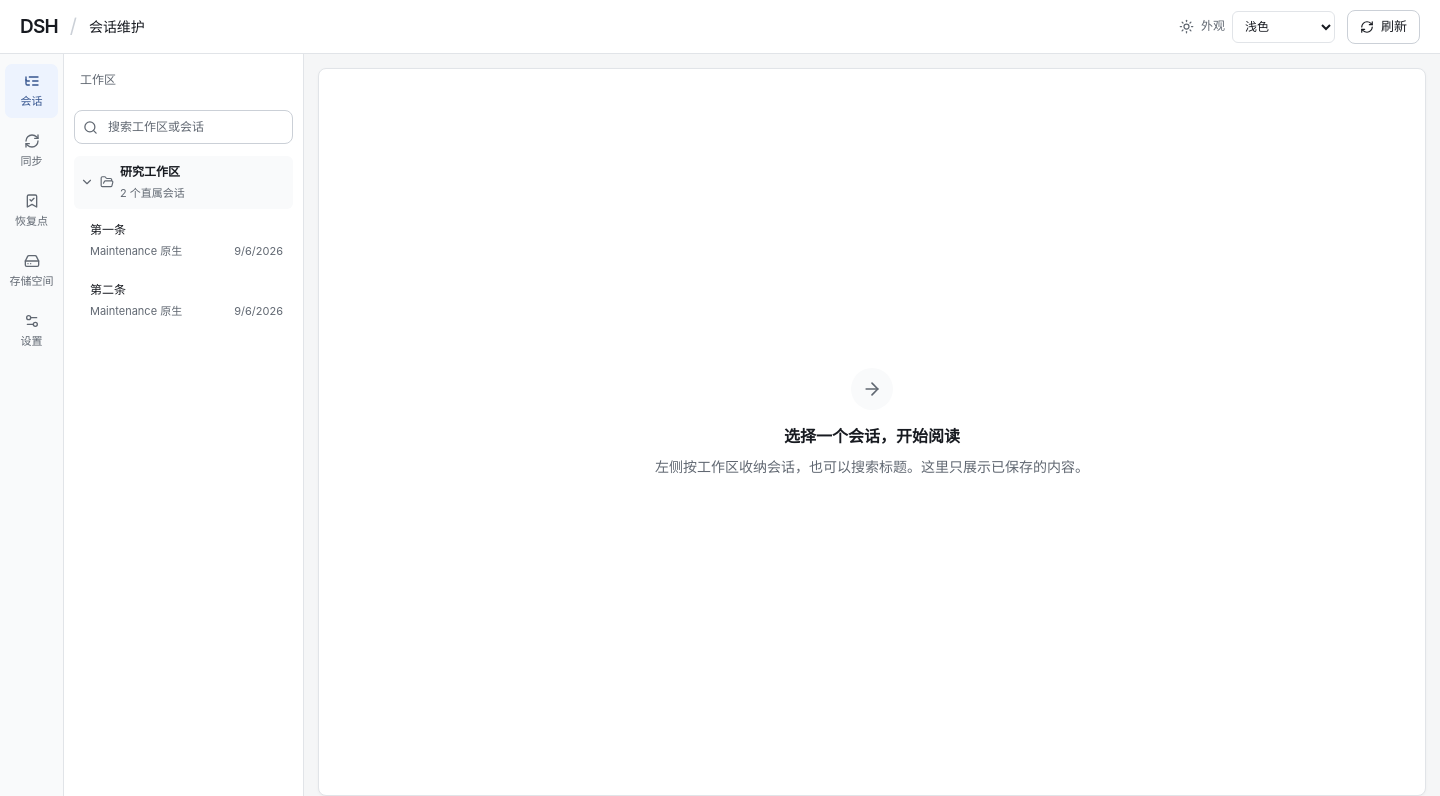
Test: recovery and storage explanations › makes recently deleted recovery visible and refreshes the workspace directory after restoring
The image size is (1440, 796).
Click the button "恢复点": (32, 211) [5,184,58,238]
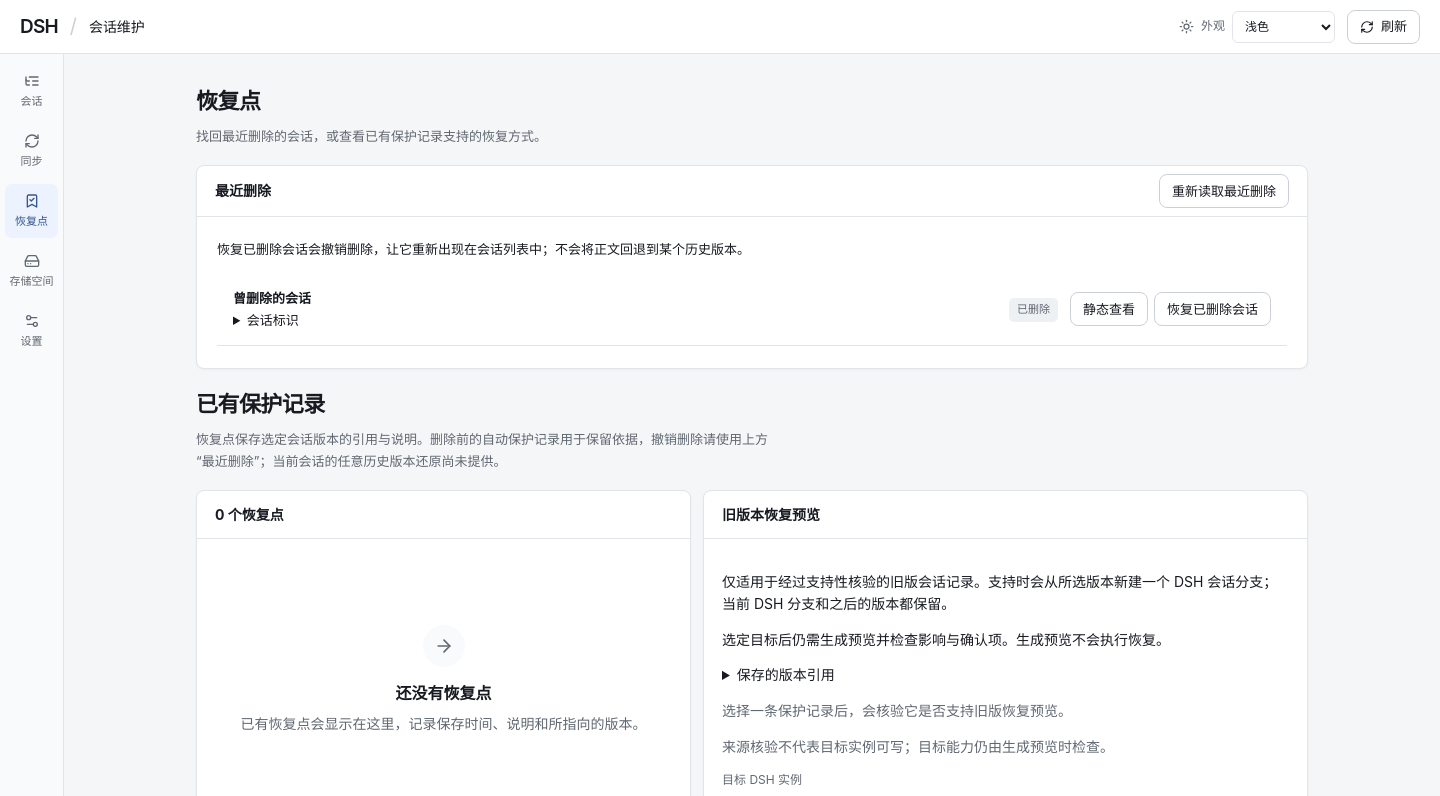
Check: the text "不会将正文回退到某个历史版本" is shown, box [217,241,750,257]
Click the button "恢复已删除会话": (1212, 309) [1154,292,1271,326]
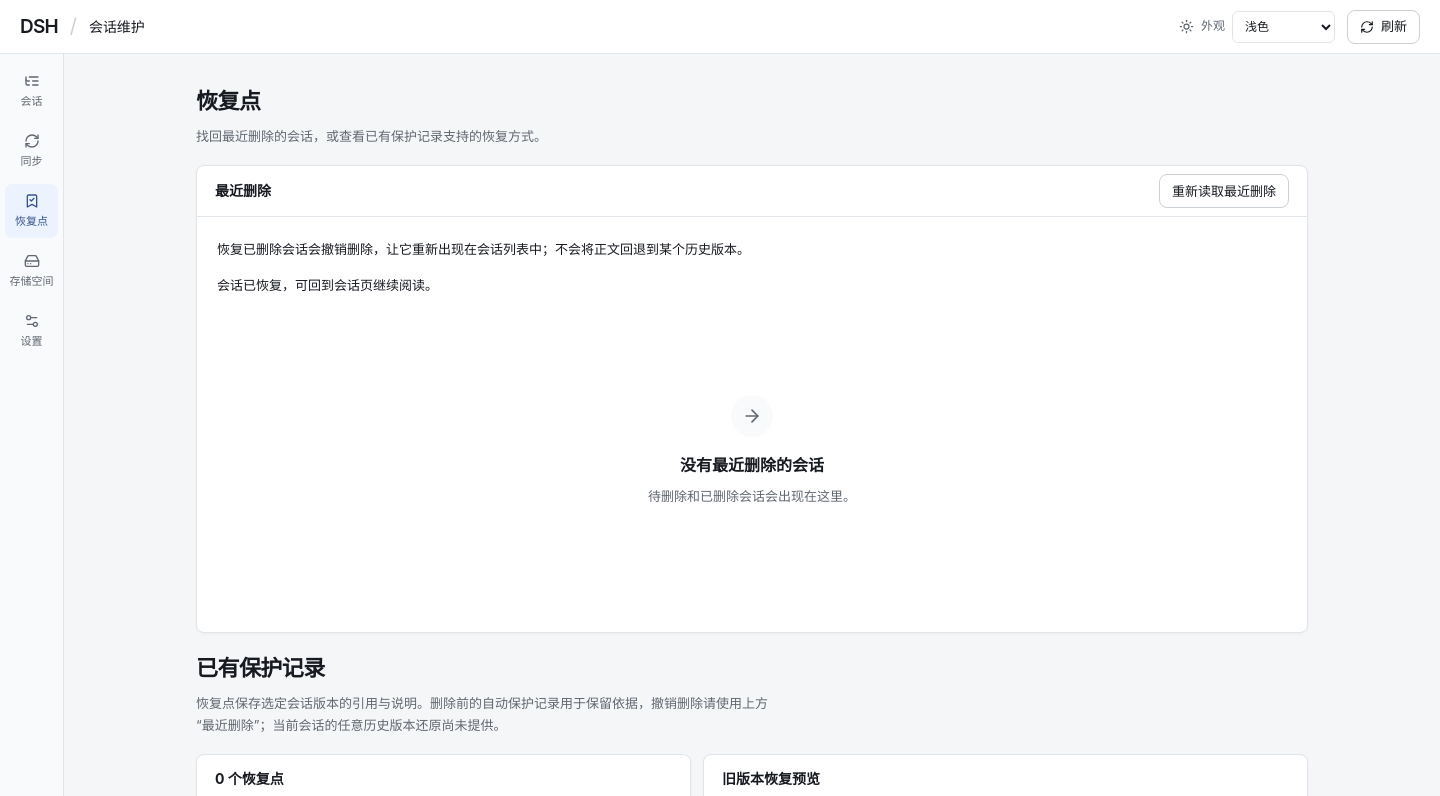
Check: the text "会话已恢复" is shown, box [217,277,438,293]
Check: the element with test id "recently-deleted-deleted" is gone
